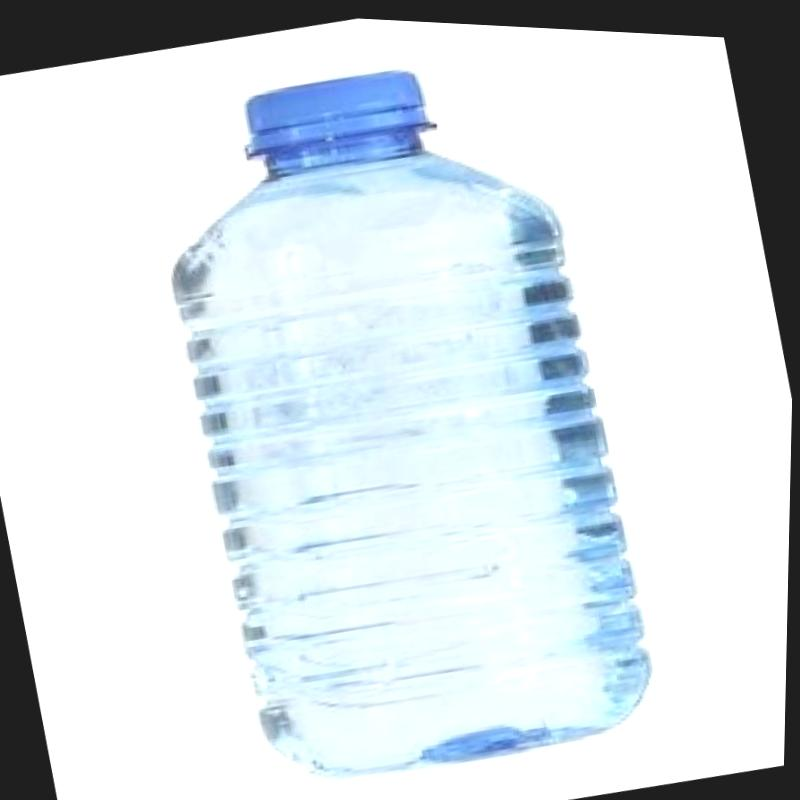botella: (120, 23, 681, 800)
